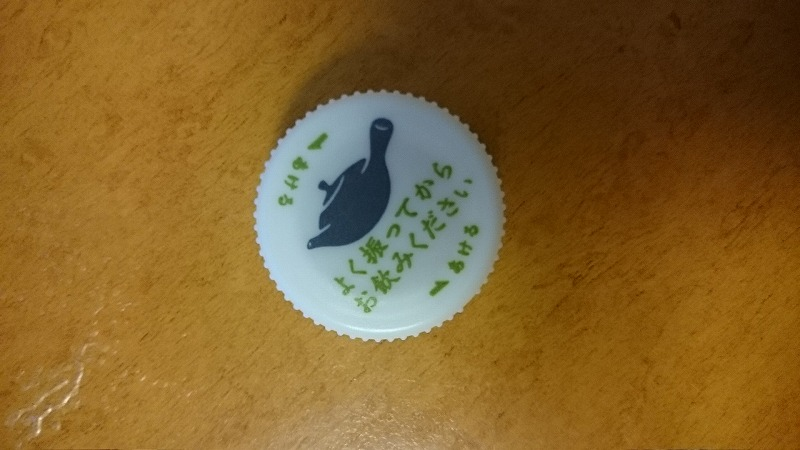A: (248, 81, 510, 342)
